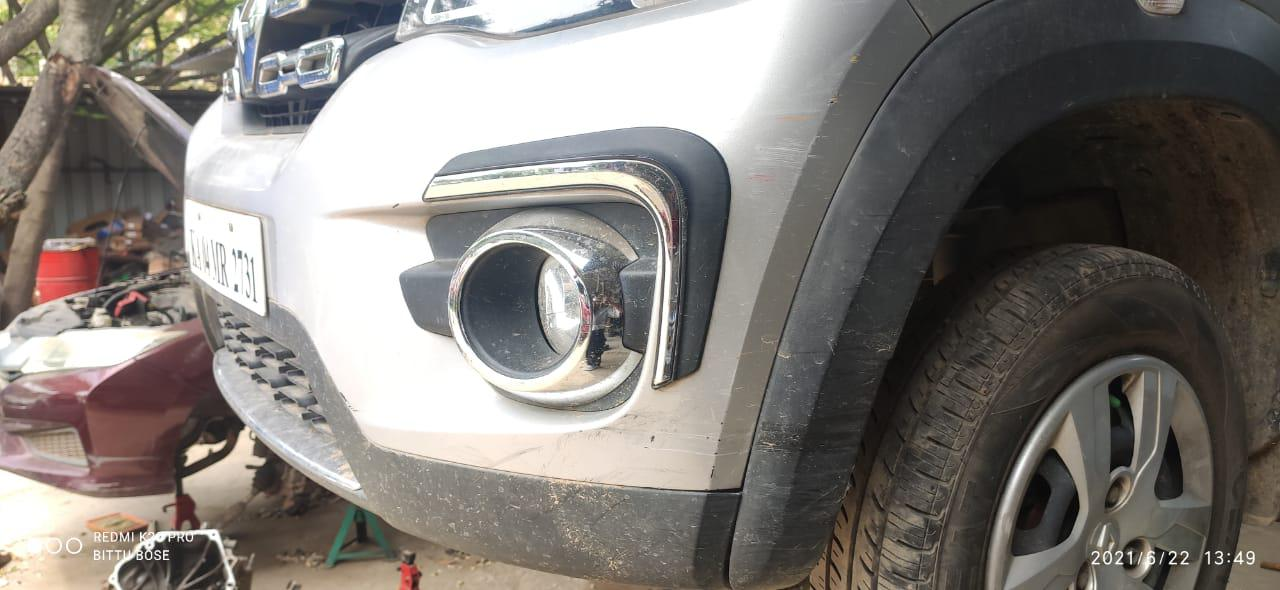front-bumper-dent: (326, 350, 753, 580)
